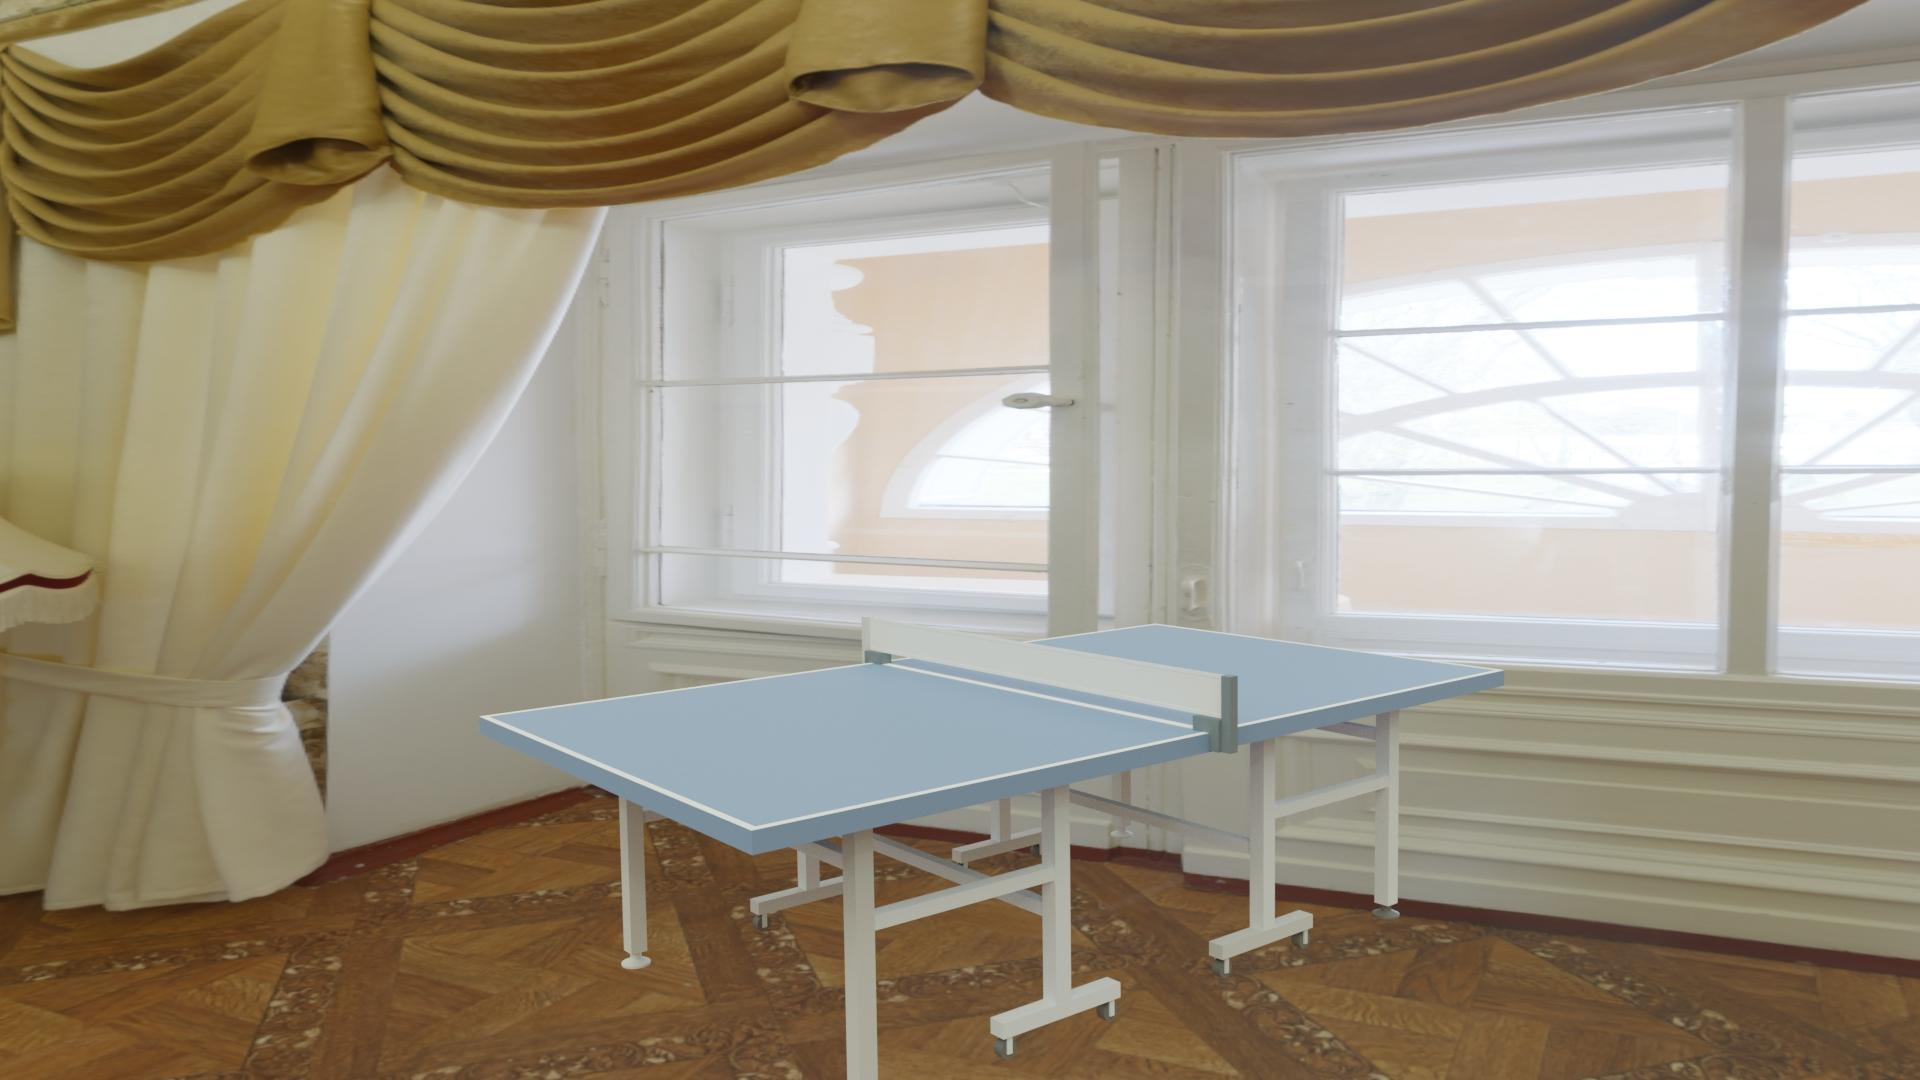table: (489, 625, 1495, 827)
